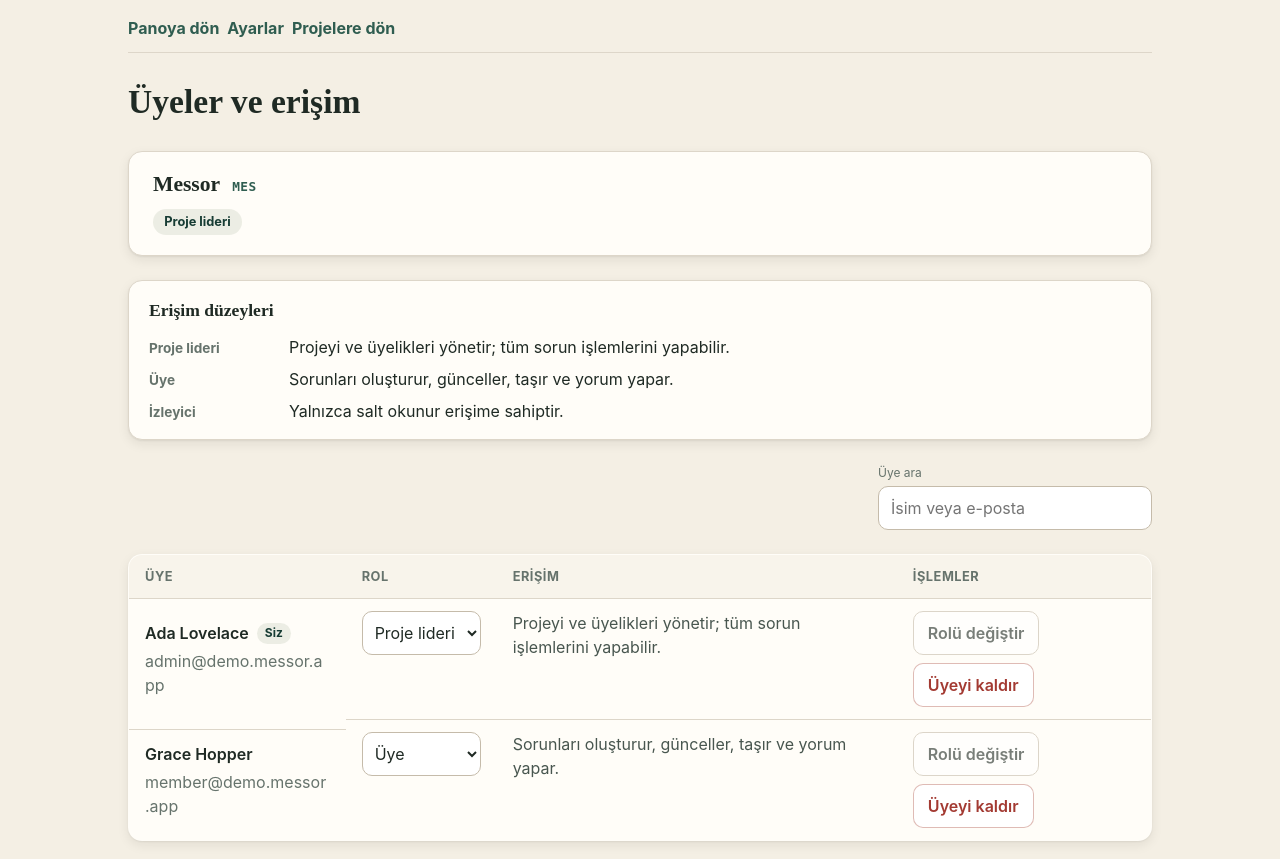
Scenario: MembersPage › role change › sends the displayed member version and confirms after success
Expected: the table named "Proje üyeleri" is shown, x1=128 y1=554 x2=1152 y2=841
Select "İzleyici" in the dropdown named "Grace Hopper rolü" at x=421, y=754, box x1=362 y1=732 x2=481 y2=776
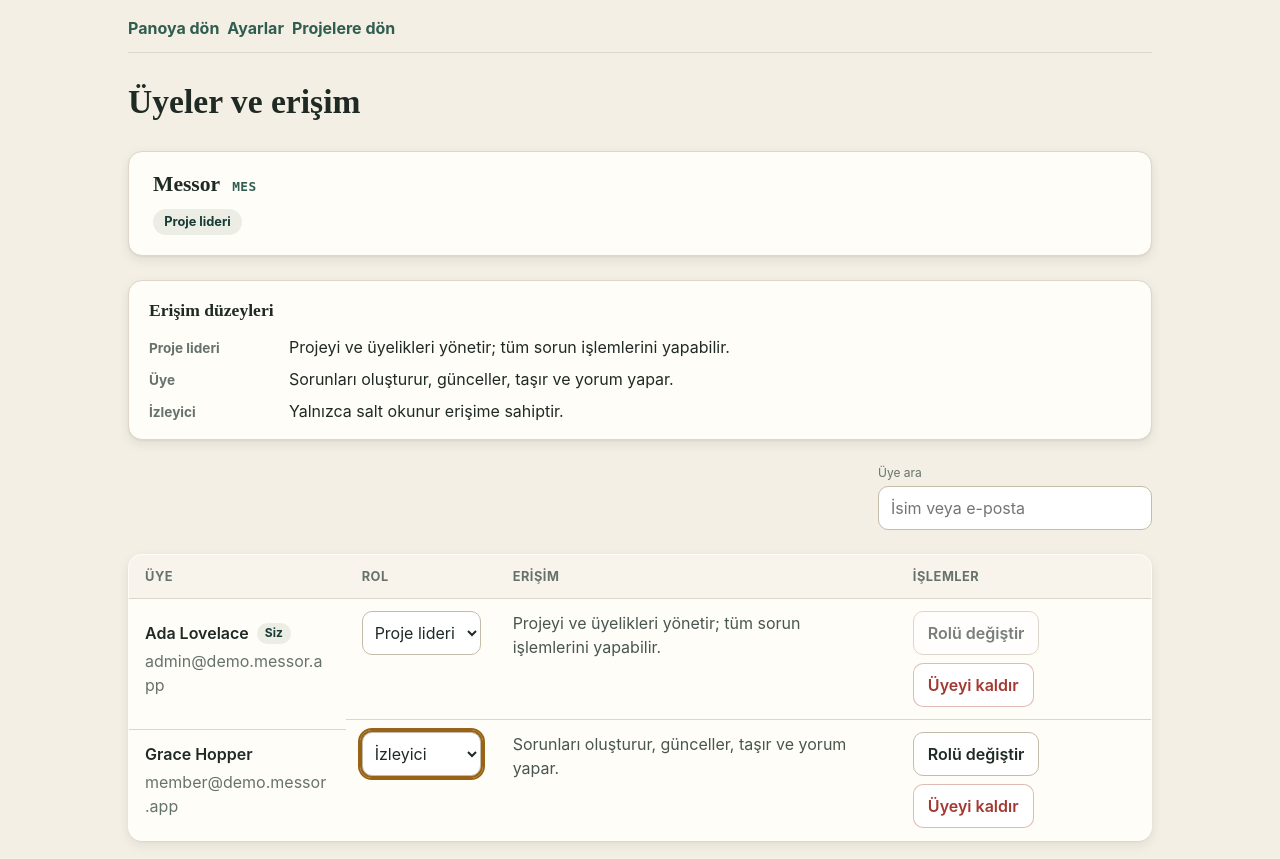
Click the button with aria-label "Grace Hopper rolünü değiştir" at x=976, y=754, box x1=913 y1=732 x2=1040 y2=776
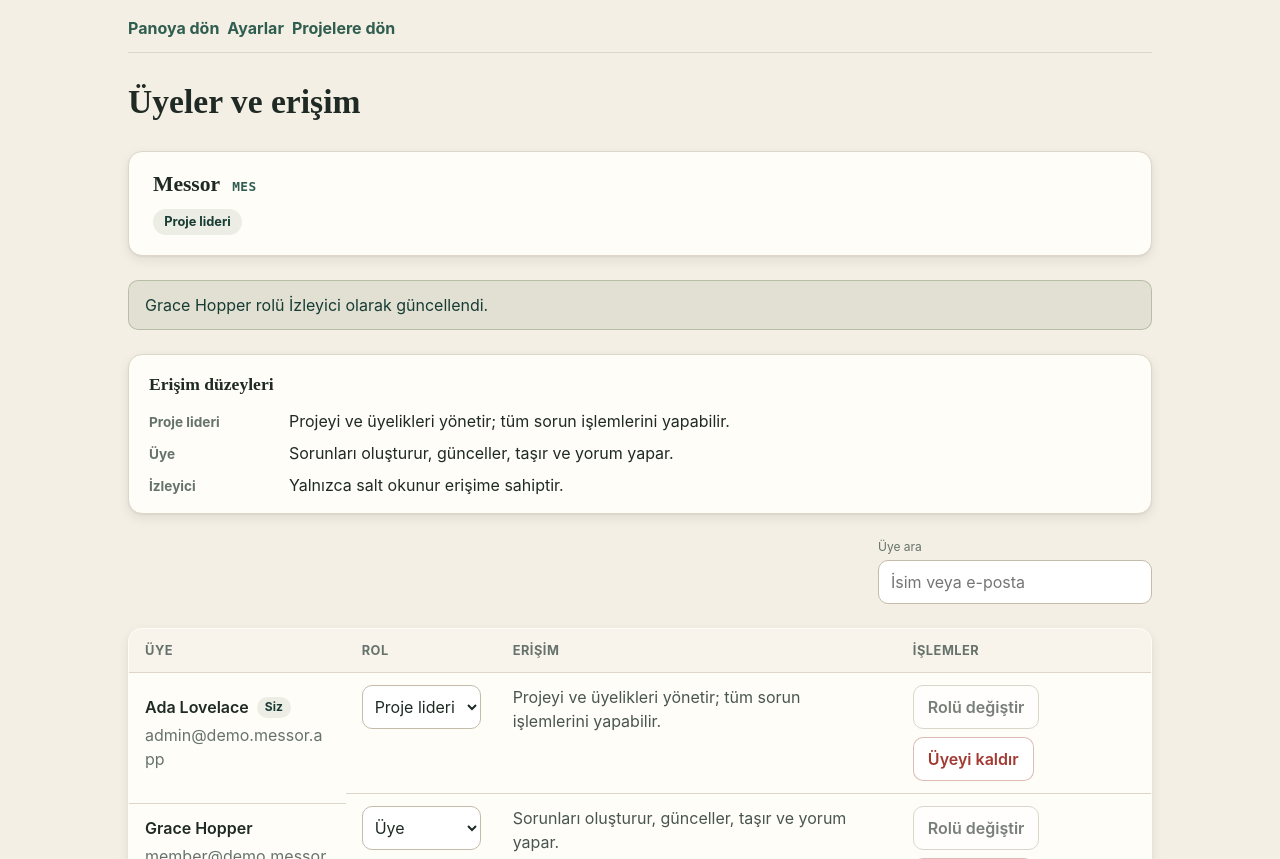
Now the message reads "Grace Hopper rolü İzleyici olarak güncellendi.", box x1=145 y1=295 x2=488 y2=315
